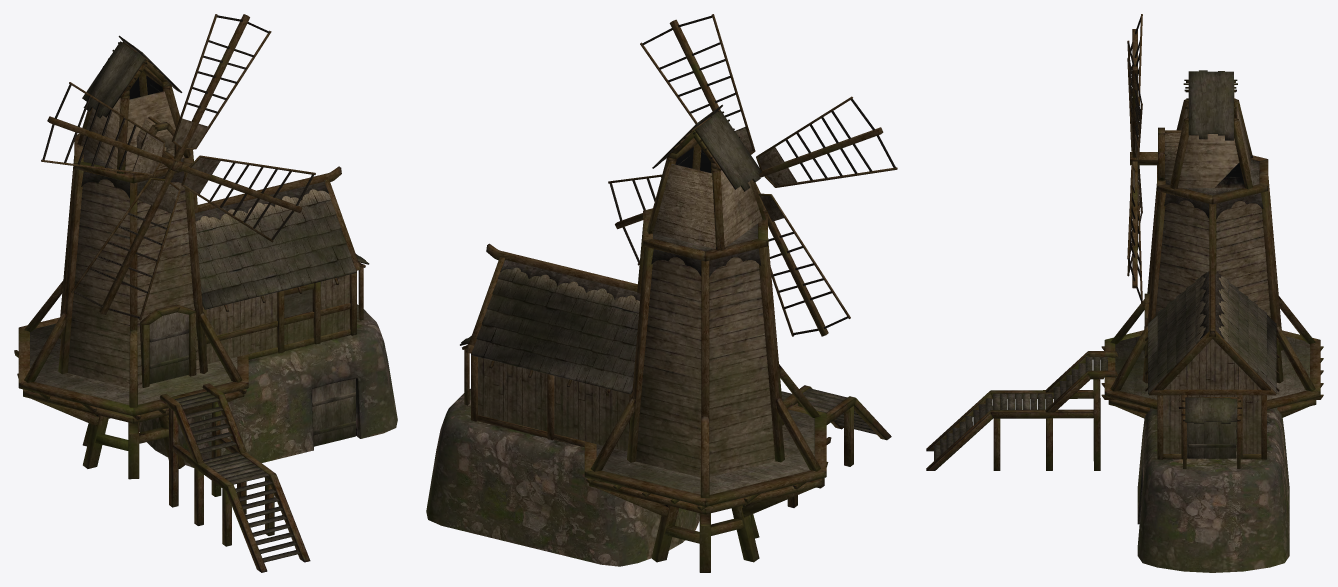
Rendered from mill.glb.
3 renders of one model, left to right at view 1: azimuth 30°, elevation 25°; view 2: azimuth 150°, elevation 25°; view 3: azimuth 270°, elevation 25°, orthographic. The views are drawn at different scales.
Visible parts, largest first — view 1: pierre_LP_04 - Default_0, STRUCTURE_LP_06 - Default_0, mur_maison_LP_05 - Default_0, ornement_LP_03 - Default_0, structure_2_LP_None_0; view 2: pierre_LP_04 - Default_0, mur_maison_LP_05 - Default_0, STRUCTURE_LP_06 - Default_0, ornement_LP_03 - Default_0, structure_2_LP_None_0; view 3: pierre_LP_04 - Default_0, STRUCTURE_LP_06 - Default_0, mur_maison_LP_05 - Default_0, ornement_LP_03 - Default_0, structure_2_LP_None_0.
Boxes of the visible parts, box(x1,y1,x2,y2) form: pierre_LP_04 - Default_0: box(42, 15, 397, 467); STRUCTURE_LP_06 - Default_0: box(18, 42, 361, 572); mur_maison_LP_05 - Default_0: box(67, 75, 349, 388); ornement_LP_03 - Default_0: box(30, 35, 369, 562); structure_2_LP_None_0: box(14, 14, 365, 419); pierre_LP_04 - Default_0: box(426, 15, 895, 566); mur_maison_LP_05 - Default_0: box(478, 147, 775, 477); STRUCTURE_LP_06 - Default_0: box(466, 128, 891, 572); ornement_LP_03 - Default_0: box(460, 104, 876, 494); structure_2_LP_None_0: box(462, 14, 897, 510); pierre_LP_04 - Default_0: box(1127, 16, 1289, 572); STRUCTURE_LP_06 - Default_0: box(926, 80, 1320, 470); mur_maison_LP_05 - Default_0: box(1155, 104, 1270, 453); ornement_LP_03 - Default_0: box(934, 70, 1309, 460); structure_2_LP_None_0: box(1101, 14, 1323, 468).
Bounding box in the file's own units: 11.69 × 13.53 × 11.16.
Materials: 5 (5 with a texture image).
